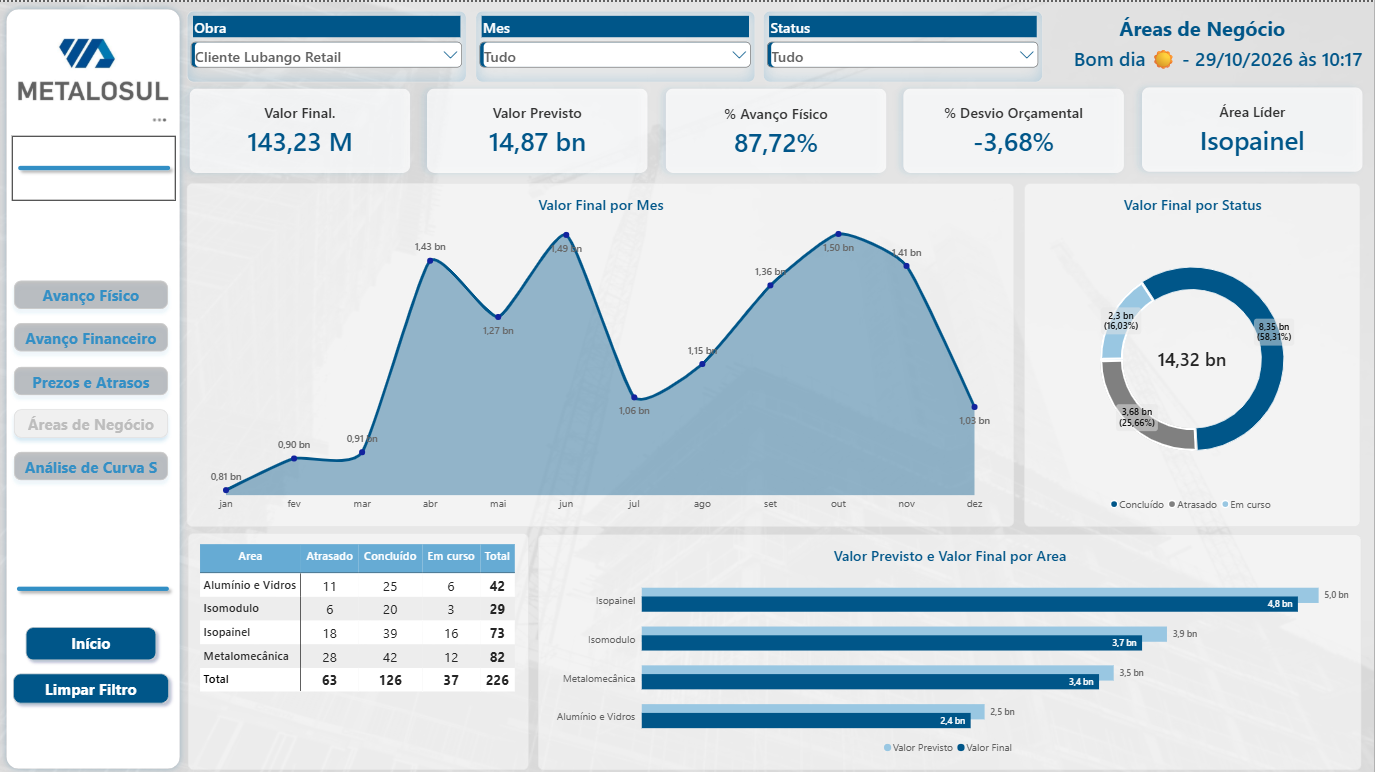

The page's visual inventory and layout, read from the dashboard file:
{"tool":"powerbi","page":{"name":"Áreas de Negócio","canvas":[1920,1080],"ordinal":3},"visuals":[{"type":"shape","box":[2,0,262,1080],"z":0},{"type":"image","box":[24.6,37.7,216.2,102.3],"z":1000},{"type":"cardVisual","fields":{"Data":["Fact_Producao.Saudação"]},"box":[1445.7,58.6,468,52],"z":2000,"group":"g1"},{"type":"actionButton","box":[12.4,378,235,60],"z":2000},{"type":"shape","box":[18.3,186.7,230,90],"z":3000},{"type":"actionButton","box":[12.4,438,235,60],"z":4000},{"type":"actionButton","box":[12,498,235,60],"z":5000},{"type":"actionButton","box":[12.4,558,235,60],"z":6000},{"type":"actionButton","box":[12.4,618,235,60],"z":7000},{"type":"shape","box":[17.7,774.6,230,88.8],"z":8000},{"type":"actionButton","box":[29.9,864,200,64],"z":9000},{"type":"actionButton","box":[12.4,928,235,60],"z":10000},{"type":"cardVisual","fields":{"Data":["Fact_Producao.Valor Final."]},"box":[251.2,104,340,150],"z":11000},{"type":"cardVisual","fields":{"Data":["Fact_Producao.% Desvio Orçamental"]},"box":[1247.8,104,340,150],"z":12000},{"type":"cardVisual","fields":{"Data":["Fact_Producao.Valor Previsto"]},"box":[583.4,104,340,150],"z":13000},{"type":"cardVisual","fields":{"Data":["Fact_Producao.% Avanço Físico"]},"box":[915.6,104,340,150],"z":14000},{"type":"cardVisual","fields":{"Data":["Fact_Producao.Área Líder"]},"box":[1580,103.3,340,150],"z":15000},{"type":"slicer","fields":{"Values":["Dim_Obras.Nome_Obra"]},"box":[264,12,390,100],"z":16000},{"type":"slicer","fields":{"Values":["Dim_Datas.Mes"]},"box":[665.5,12,390,100],"z":17000},{"type":"slicer","fields":{"Values":["Fact_Producao.Status"]},"box":[1068,12,390,100],"z":18000},{"type":"group","id":"g1","title":"Grupo 1","box":[1445.7,14.3,468.6,95.7],"z":19000},{"type":"shape","box":[1457.1,14.3,444.4,43.3],"z":19001,"group":"g1"},{"type":"areaChart","fields":{"Category":["Dim_Datas.Mes"],"Y":["Fact_Producao.Valor Final"]},"box":[263.6,253.3,1154.4,479],"z":20000},{"type":"donutChart","fields":{"Category":["Fact_Producao.Status"],"Y":["Fact_Producao.Valor Final"]},"box":[1432.6,252.9,468.7,479.3],"z":21000},{"type":"clusteredBarChart","fields":{"Category":["Dim_Produtos.Area"],"Y":["Fact_Producao.Valor Previsto","Fact_Producao.Valor Final"]},"box":[753.8,742.3,1148.5,328.5],"z":22000},{"type":"pivotTable","fields":{"Columns":["Fact_Producao.Status"],"Rows":["Dim_Produtos.Area"],"Values":["Fact_Producao.Total Actividades"]},"box":[265.4,740.8,475.4,330],"z":23000}]}

Visuals, with their boxes in screenshot pixels (x1, y1, x2, y2), scaled from the page's 1920x1080 canvas onto the 1375x772 screenshot:
shape: <bbox>1, 0, 189, 771</bbox>
image: <bbox>18, 27, 172, 100</bbox>
cardVisual - Fact_Producao.Saudação: <bbox>1035, 42, 1370, 79</bbox>
actionButton: <bbox>9, 270, 177, 313</bbox>
shape: <bbox>13, 133, 178, 198</bbox>
actionButton: <bbox>9, 313, 177, 356</bbox>
actionButton: <bbox>9, 356, 177, 399</bbox>
actionButton: <bbox>9, 399, 177, 442</bbox>
actionButton: <bbox>9, 442, 177, 485</bbox>
shape: <bbox>13, 554, 177, 617</bbox>
actionButton: <bbox>21, 618, 165, 663</bbox>
actionButton: <bbox>9, 663, 177, 706</bbox>
cardVisual - Fact_Producao.Valor Final.: <bbox>180, 74, 423, 182</bbox>
cardVisual - Fact_Producao.% Desvio Orçamental: <bbox>894, 74, 1137, 182</bbox>
cardVisual - Fact_Producao.Valor Previsto: <bbox>418, 74, 661, 182</bbox>
cardVisual - Fact_Producao.% Avanço Físico: <bbox>656, 74, 899, 182</bbox>
cardVisual - Fact_Producao.Área Líder: <bbox>1132, 74, 1374, 181</bbox>
slicer - Dim_Obras.Nome_Obra: <bbox>189, 9, 468, 80</bbox>
slicer - Dim_Datas.Mes: <bbox>477, 9, 756, 80</bbox>
slicer - Fact_Producao.Status: <bbox>765, 9, 1044, 80</bbox>
"Grupo 1" group: <bbox>1035, 10, 1371, 79</bbox>
shape: <bbox>1043, 10, 1362, 41</bbox>
areaChart - Dim_Datas.Mes x Fact_Producao.Valor Final: <bbox>189, 181, 1015, 523</bbox>
donutChart - Fact_Producao.Status x Fact_Producao.Valor Final: <bbox>1026, 181, 1362, 523</bbox>
clusteredBarChart - Dim_Produtos.Area x Fact_Producao.Valor Previsto: <bbox>540, 531, 1362, 765</bbox>
pivotTable - Fact_Producao.Status x Dim_Produtos.Area: <bbox>190, 530, 531, 765</bbox>
